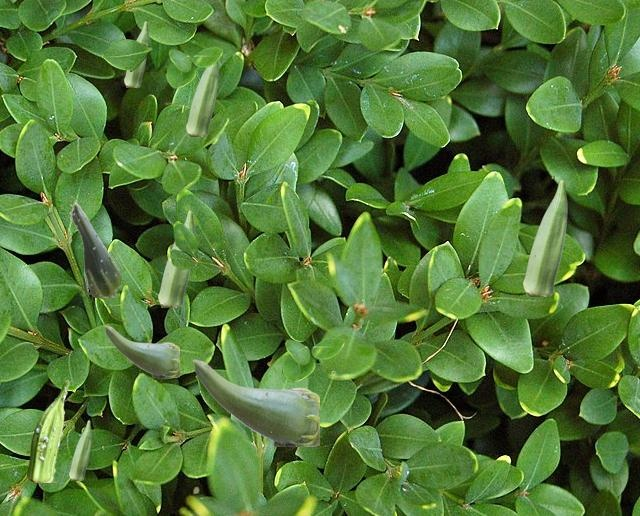okra: (192, 359, 318, 445), (523, 179, 566, 295), (69, 200, 119, 296), (27, 380, 68, 481), (104, 325, 178, 376), (158, 210, 193, 306), (186, 62, 217, 135), (124, 21, 147, 86), (69, 420, 90, 479)
